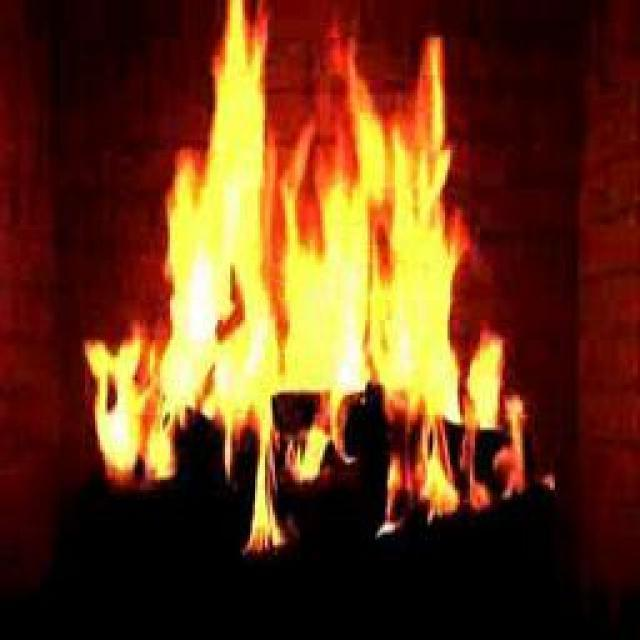Fire: (120, 70, 447, 472)
